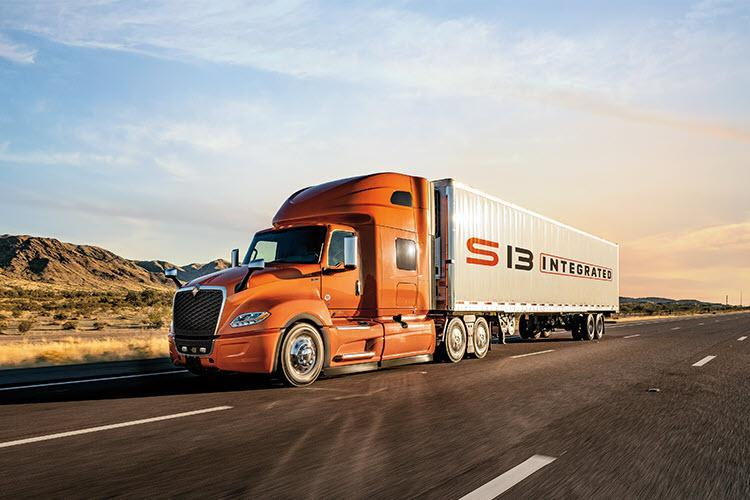truck: (165, 172, 620, 389)
